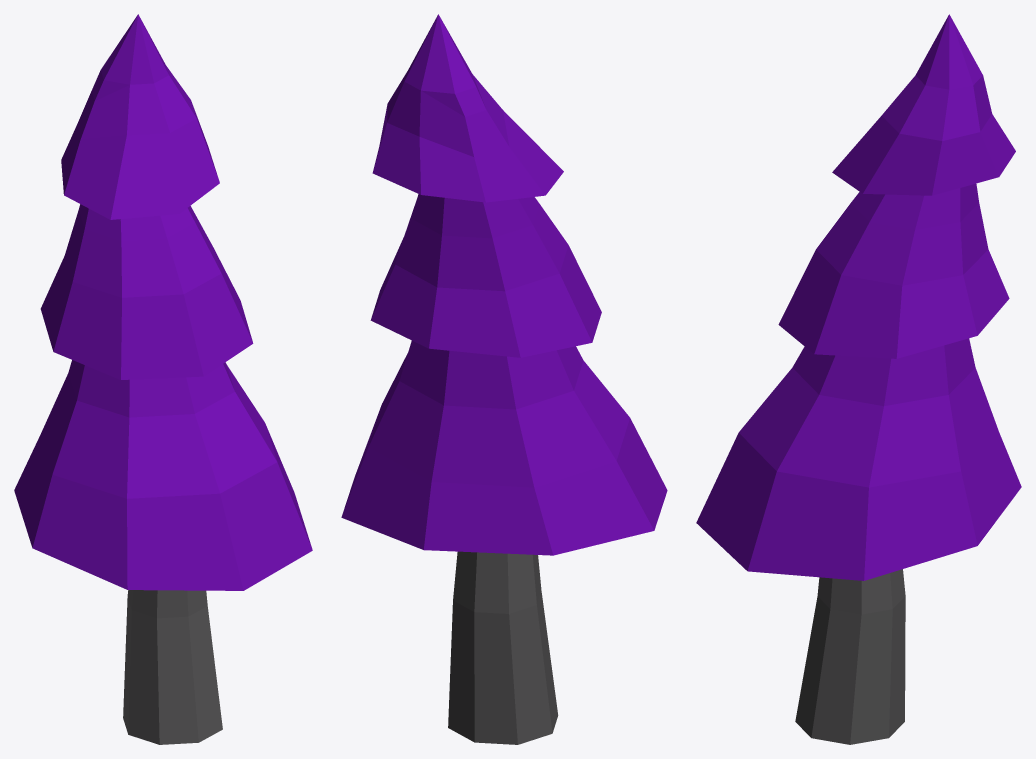
File: nightTree.fbx
The picture shows the model from 3 angles, left to right: view 1: azimuth 30°, elevation 25°; view 2: azimuth 150°, elevation 25°; view 3: azimuth 270°, elevation 25°; orthographic projection. The views are drawn at different scales.
Visible parts, largest first — view 1: Cylinder; view 2: Cylinder; view 3: Cylinder.
Boxes of the visible parts, bbox=[...] form: Cylinder: bbox=[14, 14, 312, 744]; Cylinder: bbox=[341, 14, 667, 744]; Cylinder: bbox=[696, 14, 1021, 744].
Bounding box in the file's own units: 967 × 2328 × 962.
